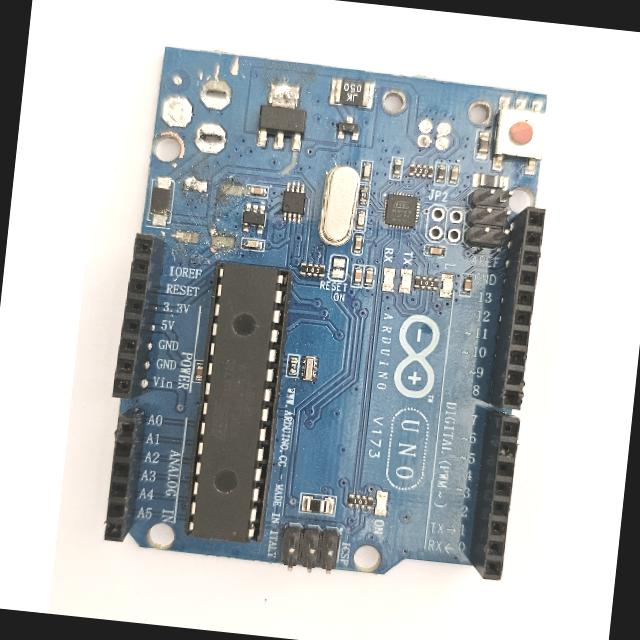missing_capacitors: (170, 175, 242, 254)
missing_eps: (169, 69, 247, 166)
missing_usb: (371, 77, 479, 155)
